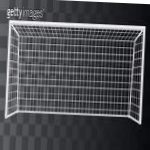goals: (4, 18, 148, 128)
